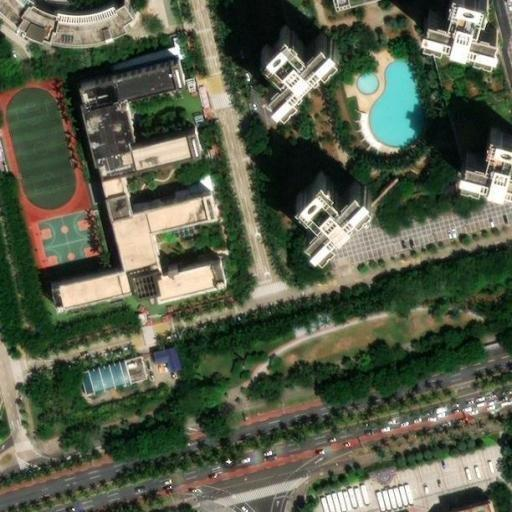building: (53, 67, 227, 310), (0, 0, 144, 48), (268, 30, 347, 109), (305, 177, 384, 256), (475, 138, 512, 194), (85, 365, 134, 400), (154, 350, 186, 376), (444, 495, 491, 512), (128, 359, 151, 386), (36, 0, 78, 13)
